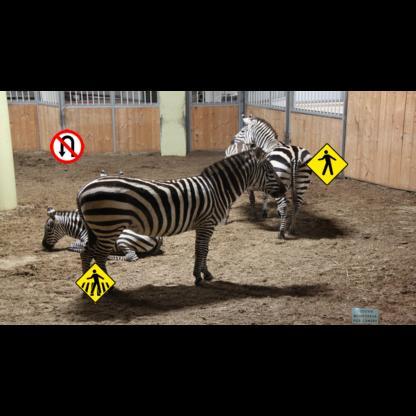A-32a: (306, 143, 348, 186)
A-32b: (75, 262, 116, 303)
I-E: (352, 308, 378, 323)
R-5a: (50, 129, 84, 163)
